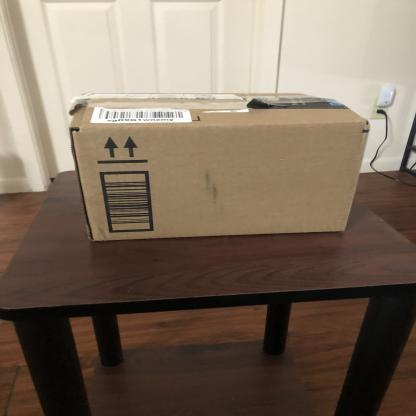package: (68, 85, 377, 248)
